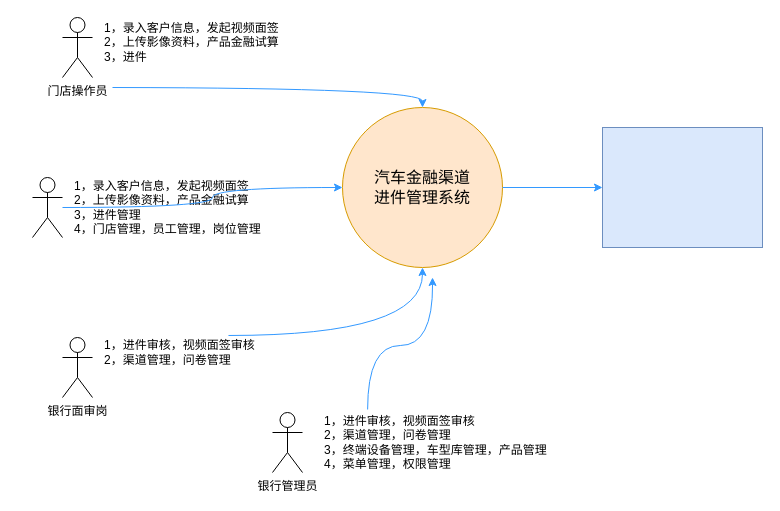
This 780x511 diagram has some shape labels left out. The centre of each missing label's shape, as x and y in pixels:
"天津邮储中台" goes at pixel 682 187.
"渠道管理员" goes at pixel 47 207.
